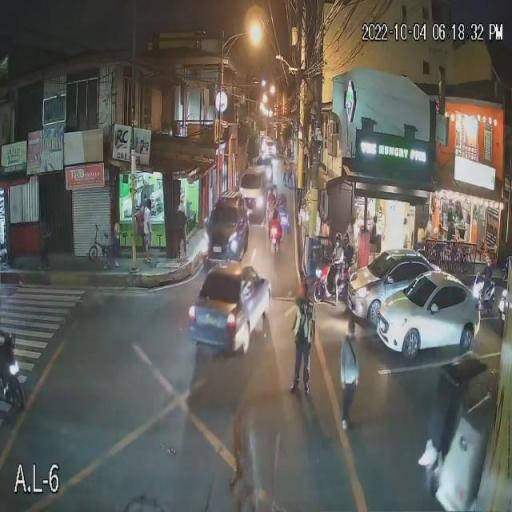helmet: (341, 233, 352, 244), (483, 258, 494, 269), (334, 232, 342, 241), (271, 206, 278, 214), (280, 202, 286, 210)
motorcycle: (0, 333, 26, 418), (307, 254, 348, 306), (470, 262, 498, 314), (489, 276, 512, 321), (268, 214, 285, 257)
rider: (328, 231, 347, 289), (481, 254, 500, 304), (0, 328, 18, 378), (268, 210, 283, 246), (276, 199, 290, 231)
